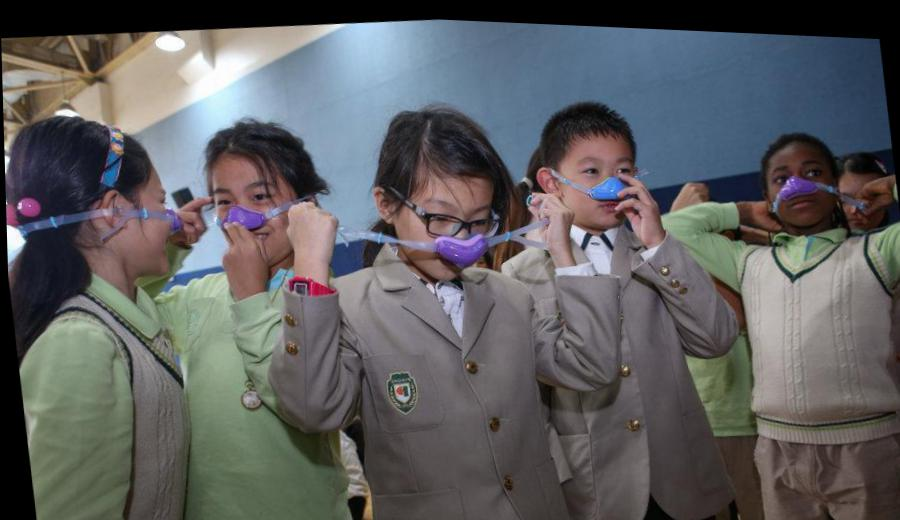NONE: (834, 169, 887, 224)
WRONG: (200, 166, 301, 269), (92, 179, 184, 276), (407, 187, 500, 280), (563, 144, 644, 226), (766, 146, 844, 224)
